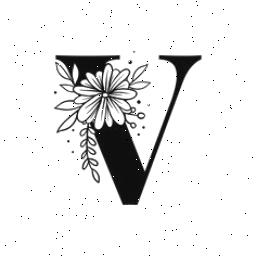v: (44, 40, 216, 212)
